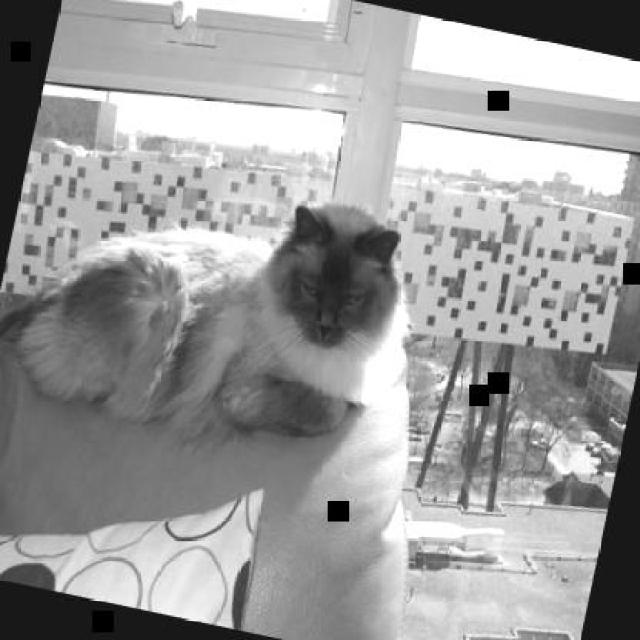cat: (0, 138, 429, 470)
